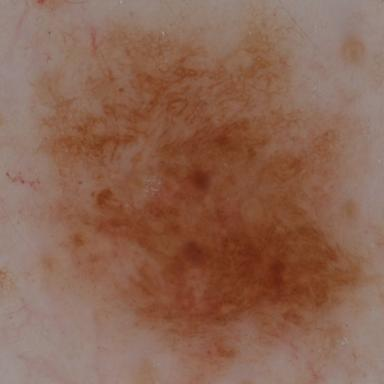nevus: (25, 0, 373, 382)
